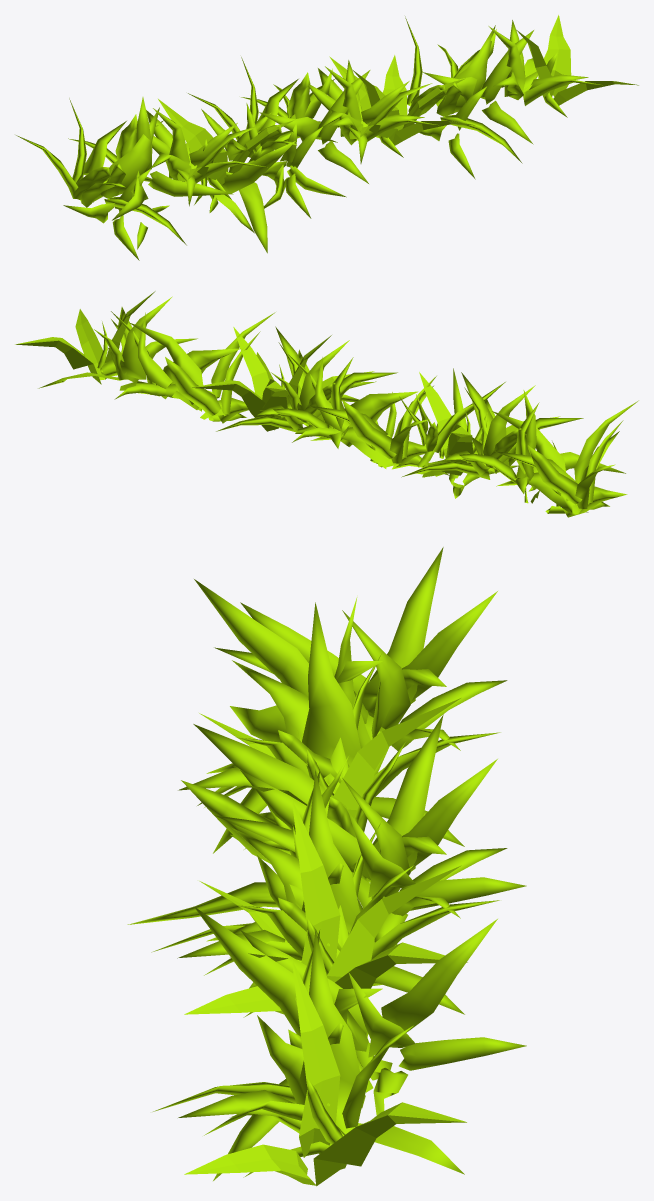
Rendered from EdgeGrass_Model.fbx.
3 views of the same model, one above another, from view 1: azimuth 30°, elevation 25°; view 2: azimuth 150°, elevation 25°; view 3: azimuth 270°, elevation 25° (orthographic). The views are drawn at different scales.
Parts seen in each view (by area): view 1: Edge; view 2: Edge; view 3: Edge.
Part boxes in pixels (<box>): Edge: <box>16,15,638,260</box>; Edge: <box>15,291,638,517</box>; Edge: <box>127,547,526,1186</box>.
Size of the model in its own units: 221 by 53.01 by 68.25.
